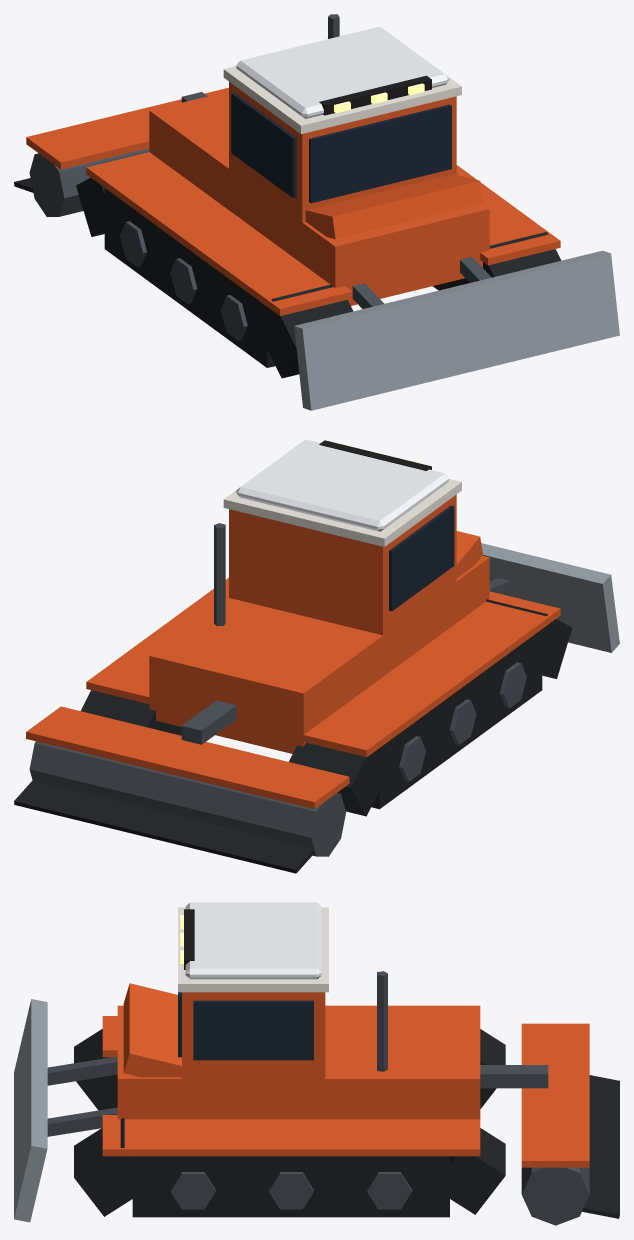
The model's file is snowcat.glb.
The picture shows the model from 3 angles, top to bottom: view 1: azimuth 30°, elevation 25°; view 2: azimuth 150°, elevation 25°; view 3: azimuth 270°, elevation 25°; orthographic projection. The views are drawn at different scales.
Parts seen in each view (by area): view 1: snowcat; view 2: snowcat; view 3: snowcat.
Boxes of the visible parts, <box> form: snowcat: <box>14,14,619,410</box>; snowcat: <box>14,439,619,873</box>; snowcat: <box>14,902,619,1225</box>.
Size of the model in its own units: 4.6 by 3.27 by 8.02.
